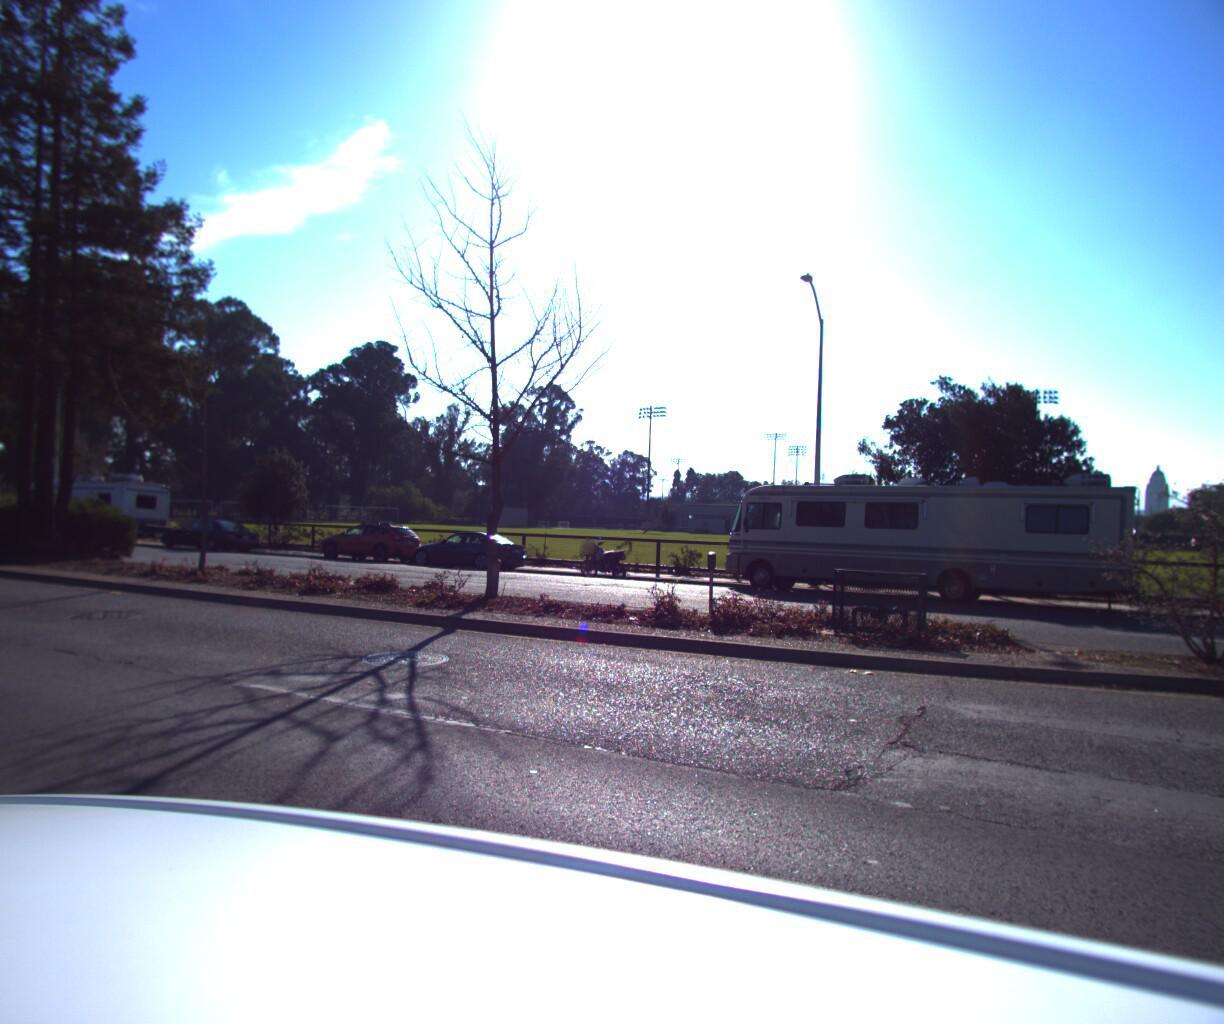car: (306, 522, 429, 571), (399, 534, 533, 579), (151, 521, 264, 562)
motorcycle: (569, 538, 634, 586)
other_vehicle: (706, 469, 1148, 622), (4, 474, 177, 552)
